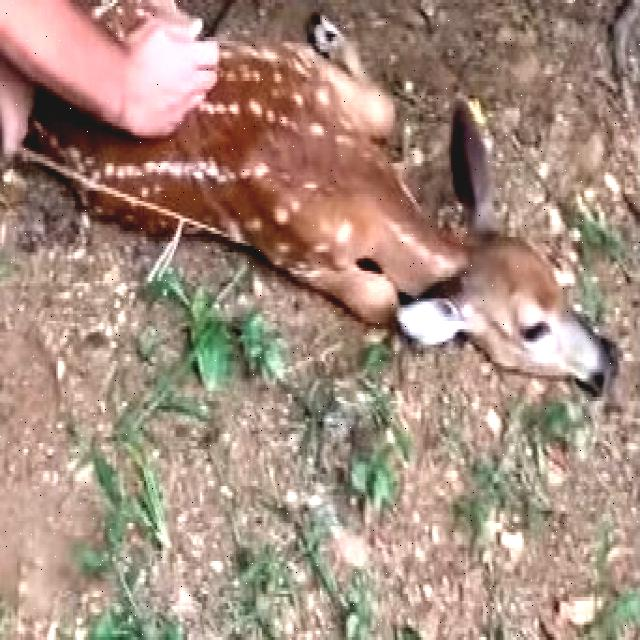deer: (326, 95, 620, 412)
